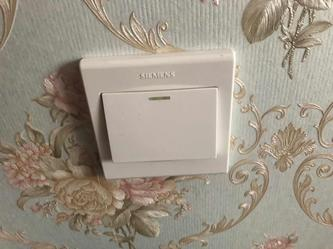switch: (100, 77, 219, 168)
